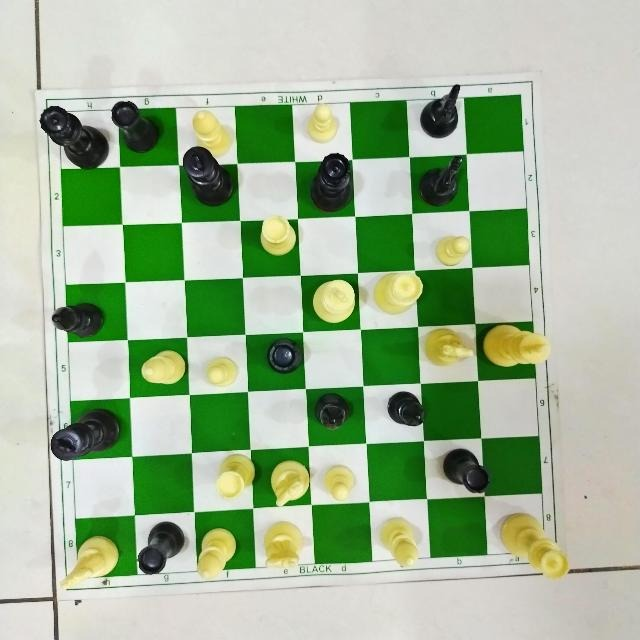black-bishop: (47, 295, 115, 344)
black-king: (46, 406, 128, 466), (178, 141, 240, 209)
black-knight: (410, 152, 473, 210), (410, 79, 466, 143)
black-queen: (34, 102, 112, 173), (302, 149, 360, 215), (308, 388, 360, 434), (384, 385, 430, 432)
black-rook: (106, 94, 164, 155), (135, 516, 187, 580), (436, 445, 491, 498), (257, 334, 311, 378)
white-bishop: (375, 511, 425, 575), (191, 523, 243, 582), (183, 106, 236, 163), (136, 346, 191, 389)
white-king: (476, 319, 554, 377), (309, 276, 357, 324)
white-knight: (56, 531, 124, 597), (255, 514, 307, 570), (264, 455, 312, 509), (418, 325, 473, 369)
white-pawn: (427, 231, 477, 272), (299, 102, 343, 148), (318, 457, 360, 500), (199, 352, 241, 390)
white-queen: (493, 507, 573, 583), (367, 268, 426, 316)
white-rook: (209, 451, 259, 503), (252, 211, 299, 259)
